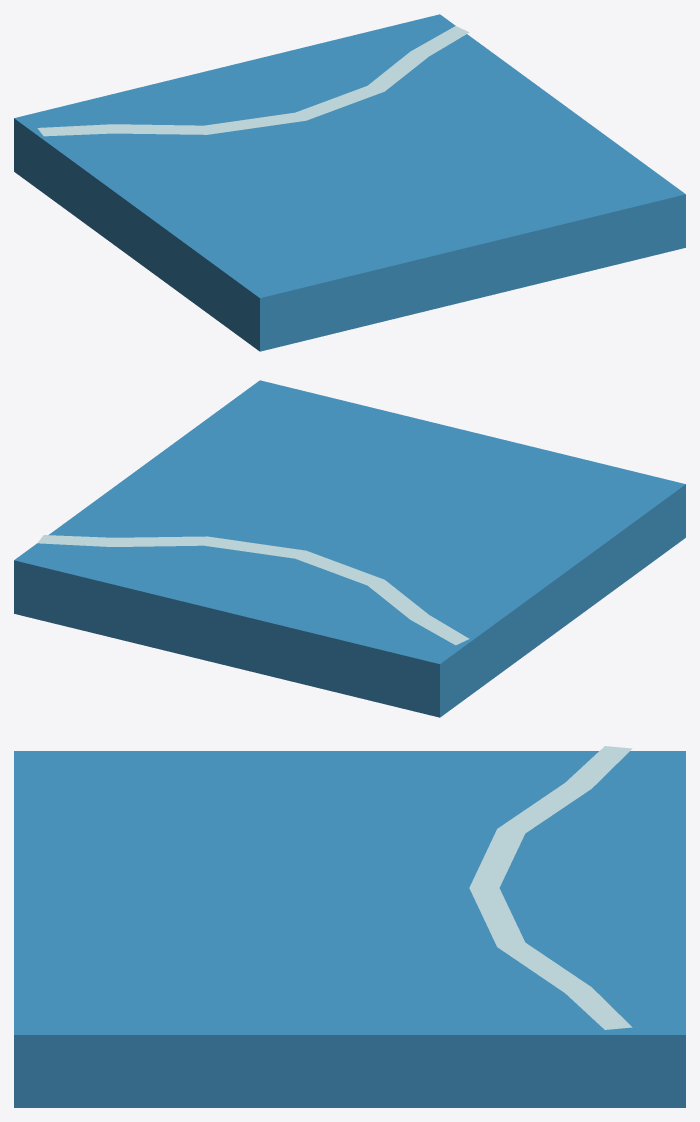
Rendered from water_edge_small_curve_01.glb.
3 renders of one model, top to bottom at view 1: azimuth 30°, elevation 25°; view 2: azimuth 150°, elevation 25°; view 3: azimuth 270°, elevation 25°, orthographic. The views are drawn at different scales.
Visible parts, largest first — view 1: water_edge_small_curve_01; view 2: water_edge_small_curve_01; view 3: water_edge_small_curve_01.
Boxes of the visible parts, <box> form: water_edge_small_curve_01: <box>14,14,685,351</box>; water_edge_small_curve_01: <box>14,380,685,717</box>; water_edge_small_curve_01: <box>14,746,685,1107</box>.
Bounding box in the file's own units: 1 × 0.128 × 1.
